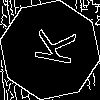K: (25, 25, 76, 67)
